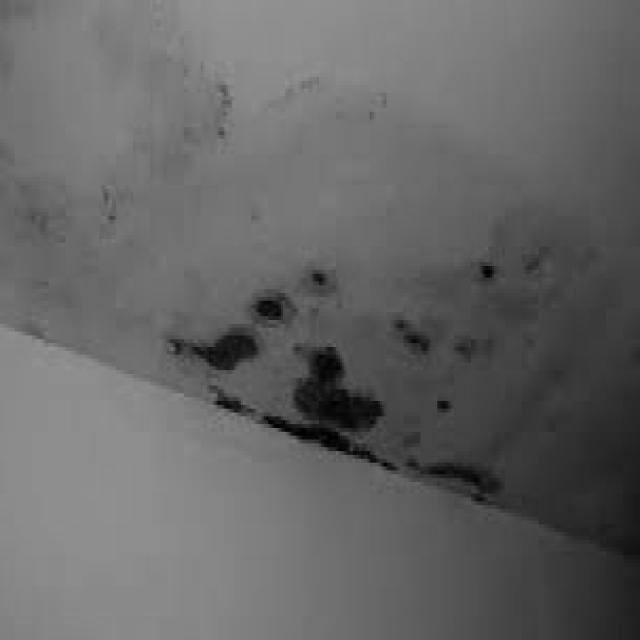stain marks: (0, 0, 639, 564)
